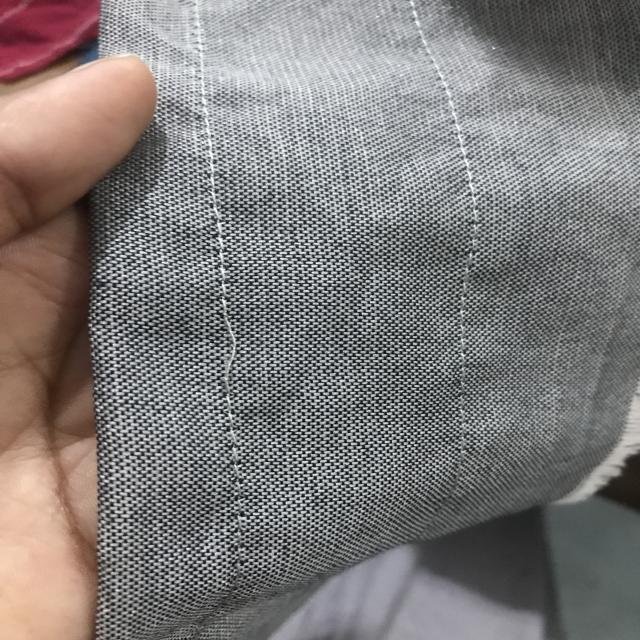skip: (189, 300, 256, 390)
